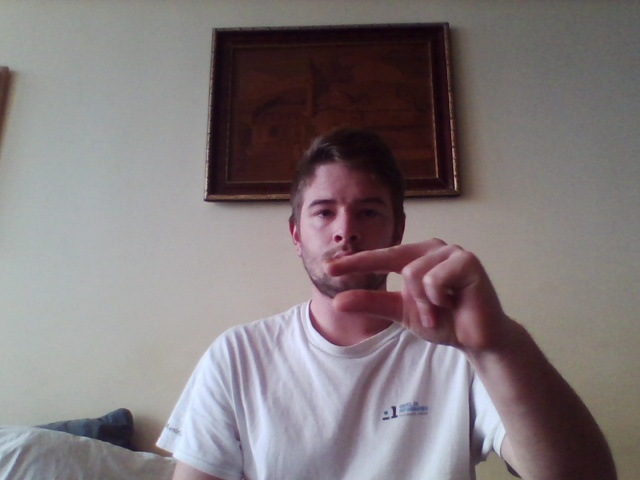ne: (327, 234, 508, 358)
